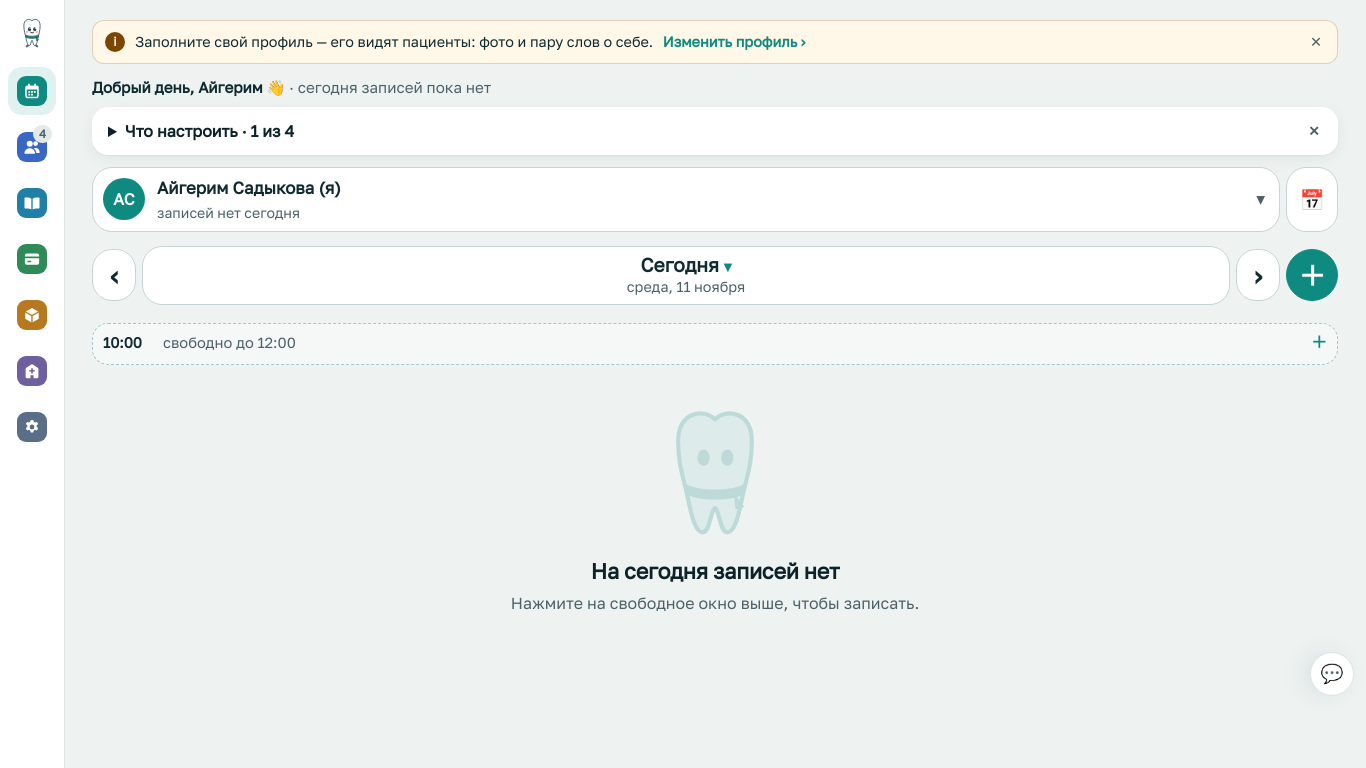
Test case: свободное окно 10:00–12:00: подходят двое из листа (без записи и с поздней записью), «Записать сюда» выбирает пациента
Click the button with aria-label "Свободно с 10:00 до 12:00, записать".
click(122, 342)  # box [93,324,1337,364]
(page scrolled)
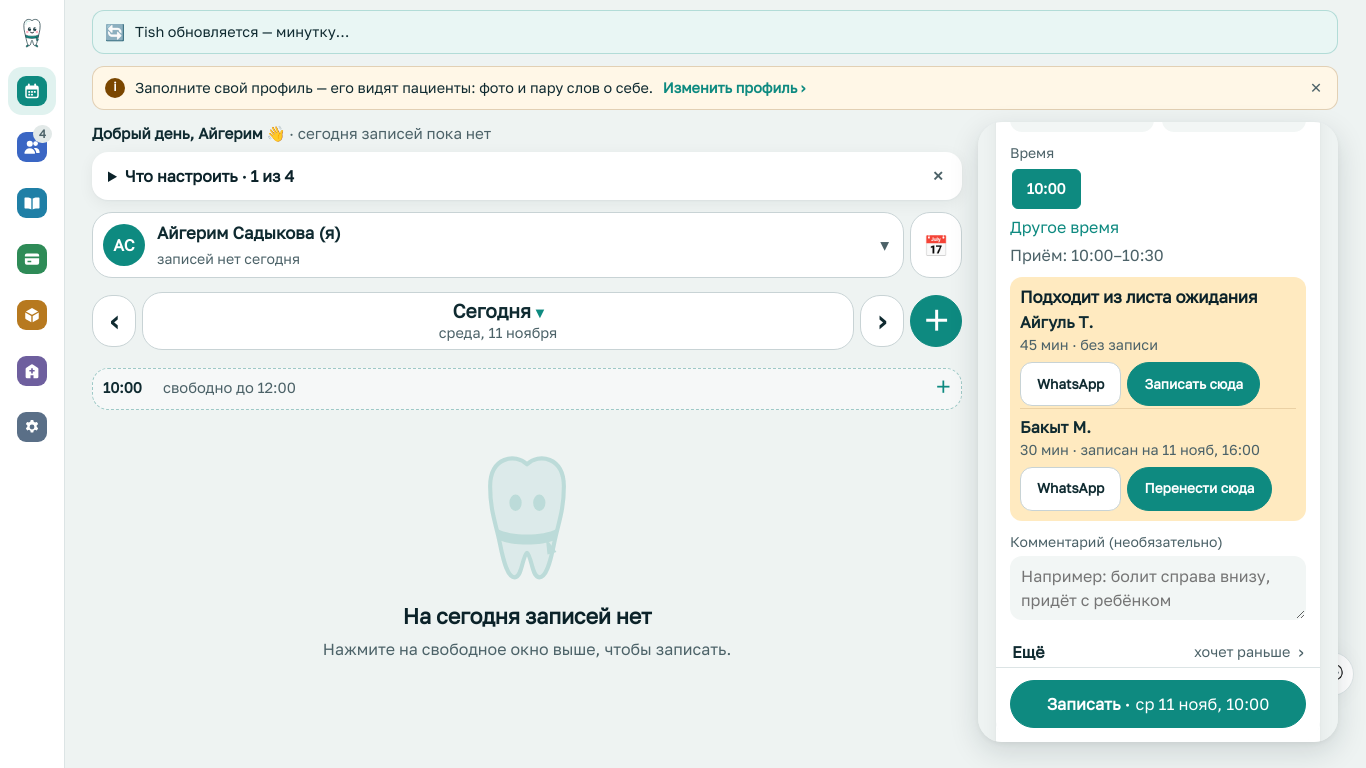
Now the element "Подходит из листа ожидания" shows "Айгуль Т.", box [1020,312,1093,332]
Now the element "Подходит из листа ожидания" shows "без записи", box [1080,336,1158,354]
Now the element "Подходит из листа ожидания" shows "Бакыт М.", box [1020,417,1091,437]
Click the button "Записать сюда".
click(1194, 384)  # box [1127,362,1260,406]
(page scrolled)
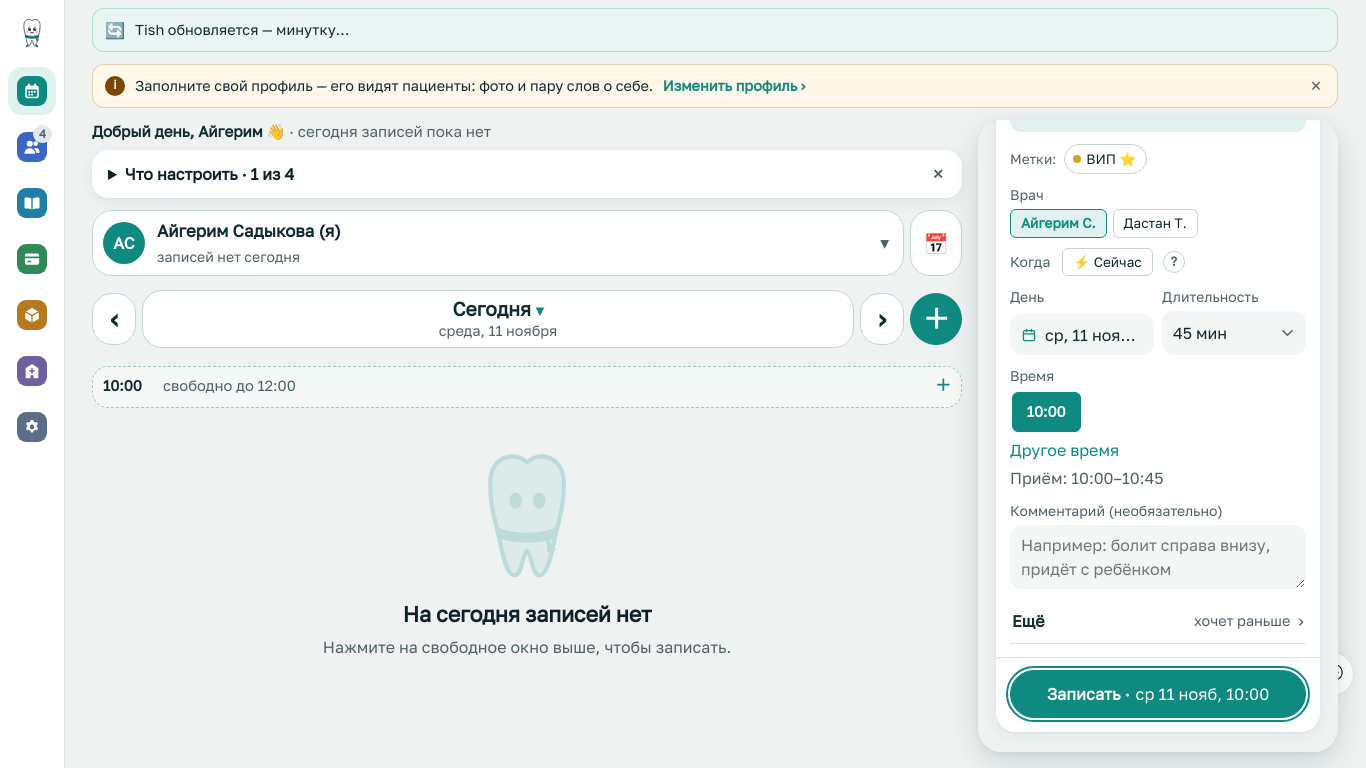
Now the element "Новая запись" shows "из листа ожидания", box [1020,61,1191,122]
Now the heading "Подходит из листа ожидания" is gone
Click the button "Записать · ср 11 нояб, 10:00".
click(1158, 694)  # box [1010,670,1306,718]
(page scrolled)
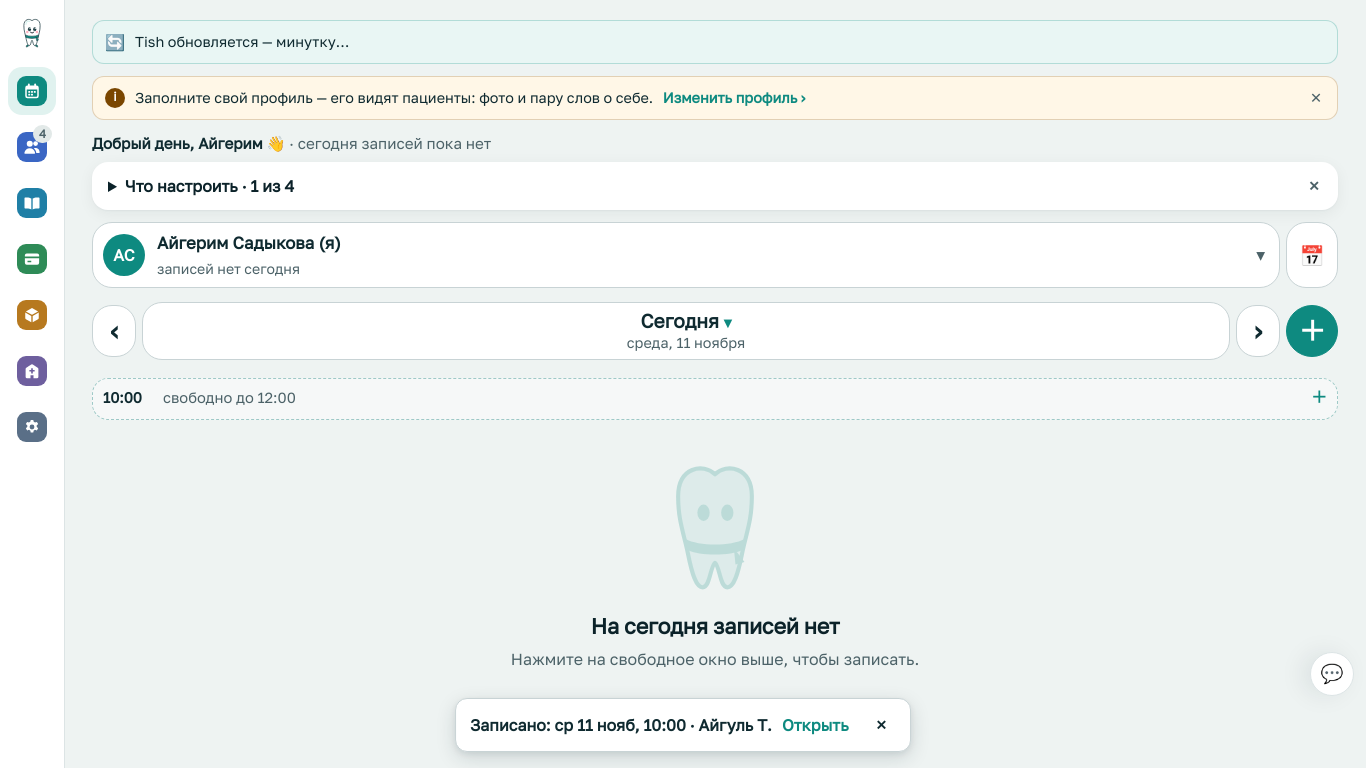
Click the button "Открыть".
click(815, 725)  # box [782,713,848,737]
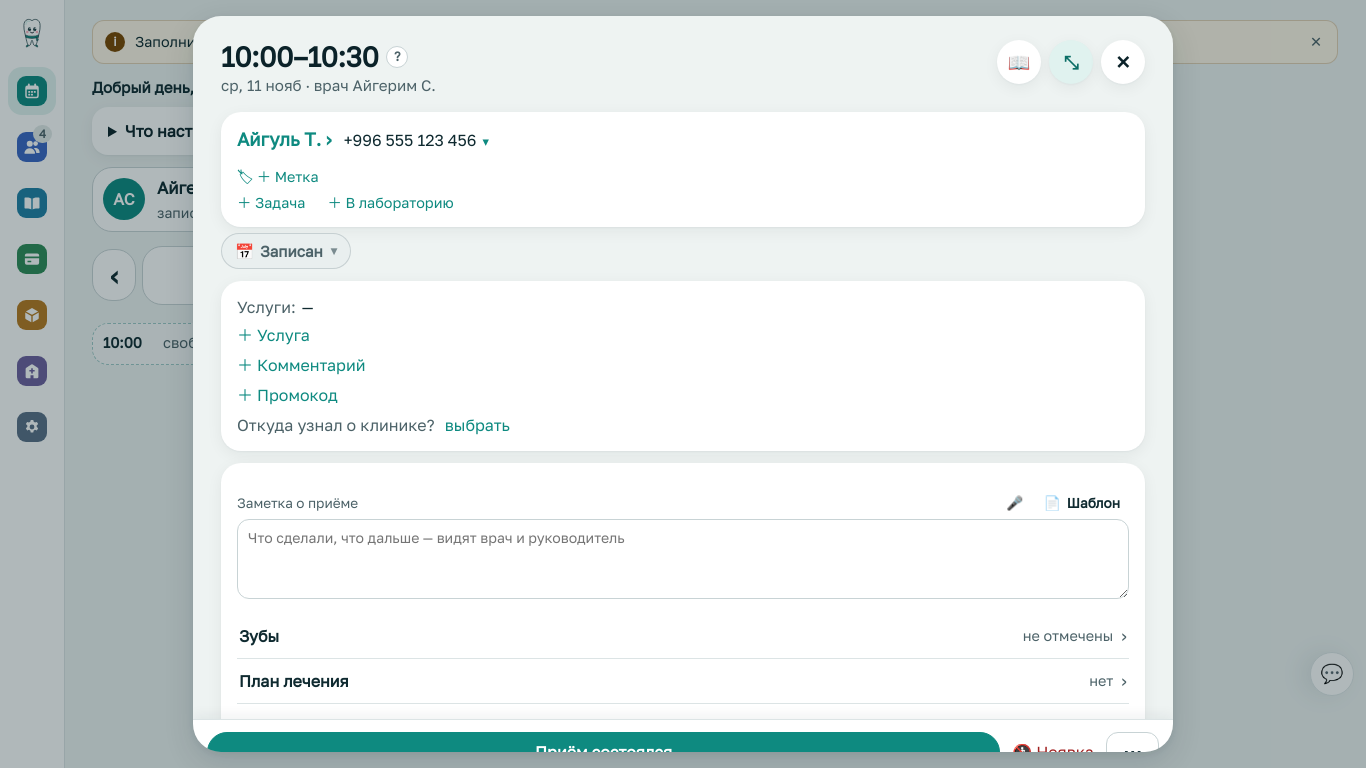
Now the element named "Карточка приёма" is shown
